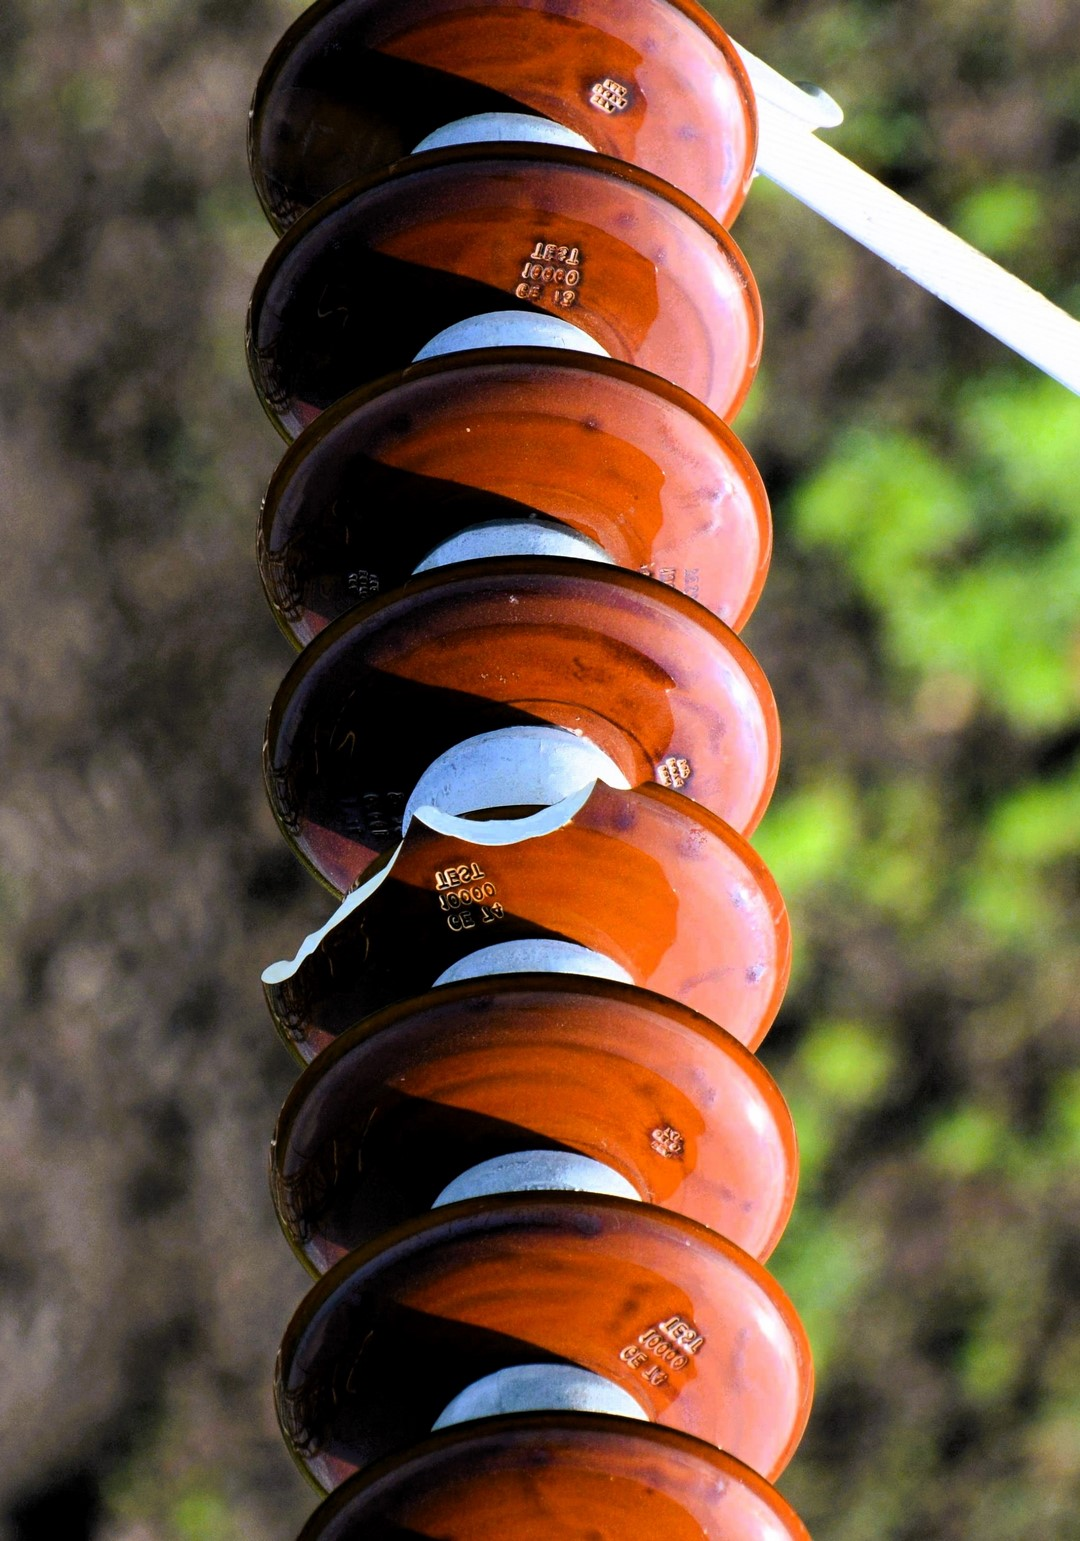insulator breakage: (235, 769, 826, 1075)
